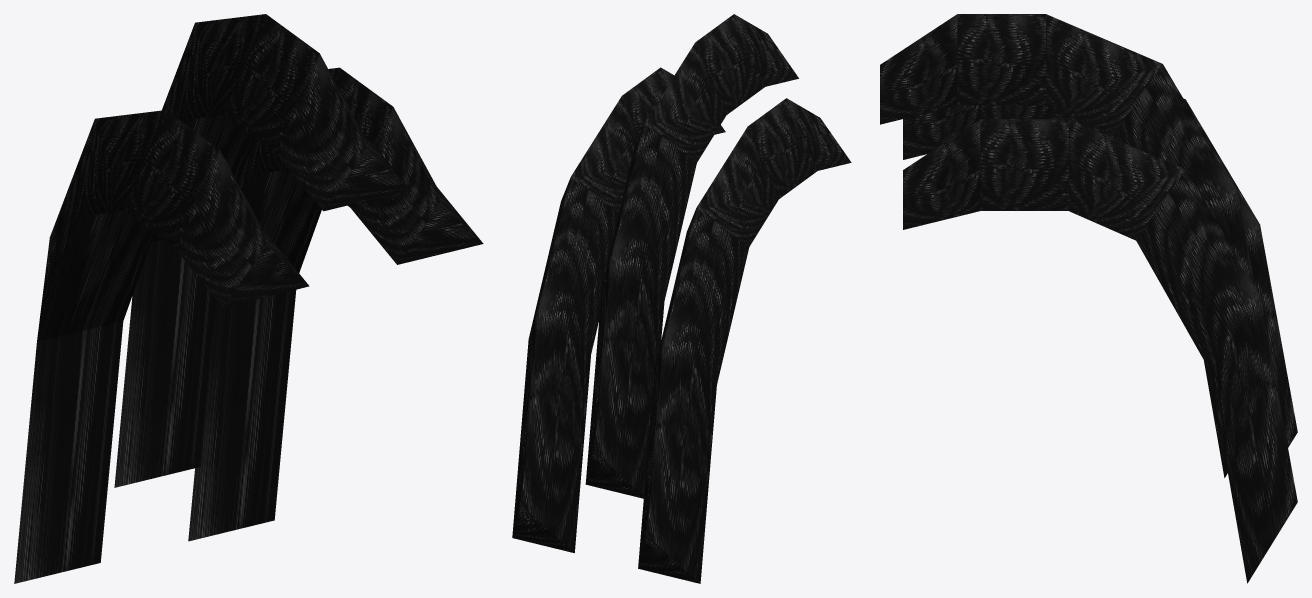
The model's file is hair_sao_female_01.dae.
The picture shows the model from 3 angles, left to right: view 1: azimuth 30°, elevation 25°; view 2: azimuth 150°, elevation 25°; view 3: azimuth 270°, elevation 25°; orthographic projection. The views are drawn at different scales.
Parts seen in each view (by area): view 1: a_hair_female_sao_01; view 2: a_hair_female_sao_01; view 3: a_hair_female_sao_01.
Boxes of the visible parts, bbox=[...] form: a_hair_female_sao_01: bbox=[14, 14, 483, 583]; a_hair_female_sao_01: bbox=[512, 14, 851, 583]; a_hair_female_sao_01: bbox=[880, 14, 1297, 583].
Size of the model in its own units: 0.4732 by 0.7978 by 1.09.
